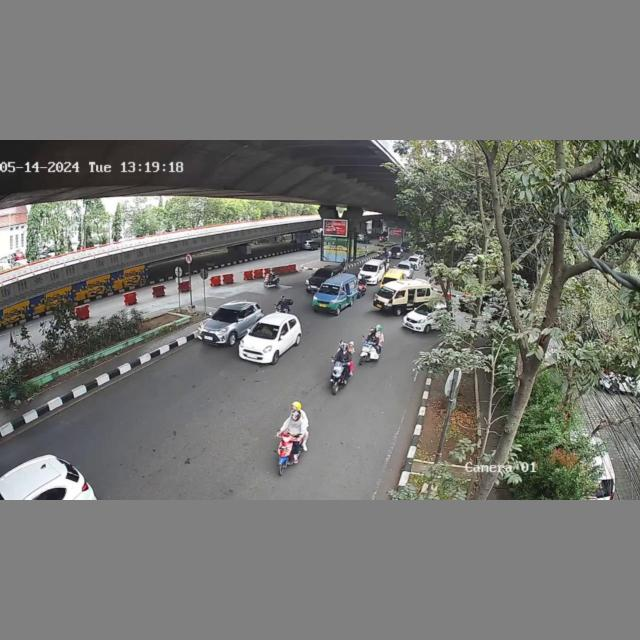windshield: (249, 321, 280, 339), (210, 305, 237, 323)
